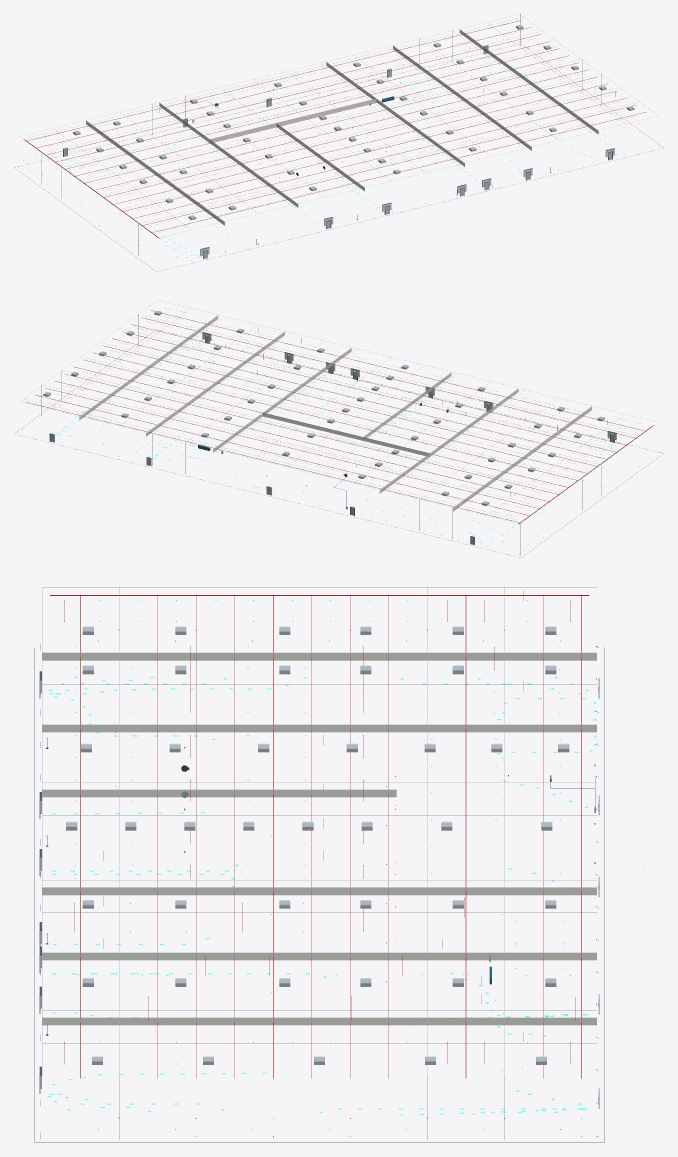
File: fire.glb
The picture shows the model from 3 angles, top to bottom: view 1: azimuth 30°, elevation 25°; view 2: azimuth 150°, elevation 25°; view 3: azimuth 270°, elevation 25°; orthographic projection. The views are drawn at different scales.
Visible parts, largest first — view 1: SPRINKLERS, SMOKE-CURTAINS, LPS, EXITS; view 2: SPRINKLERS, SMOKE-CURTAINS, LPS, EXITS; view 3: SMOKE-CURTAINS, LPS, SPRINKLERS.
Part boxes in pixels (x1,y1,x2,y2): SPRINKLERS: [24, 20, 646, 238]; SMOKE-CURTAINS: [86, 29, 598, 225]; LPS: [14, 14, 658, 269]; EXITS: [63, 45, 614, 259]; SPRINKLERS: [26, 310, 653, 524]; SMOKE-CURTAINS: [79, 315, 591, 511]; LPS: [17, 302, 663, 557]; EXITS: [49, 332, 616, 544]; SMOKE-CURTAINS: [42, 653, 596, 1025]; LPS: [34, 586, 604, 1142]; SPRINKLERS: [50, 594, 589, 1078].
Bounding box in the file's own units: 152 × 12.6 × 79.08.
